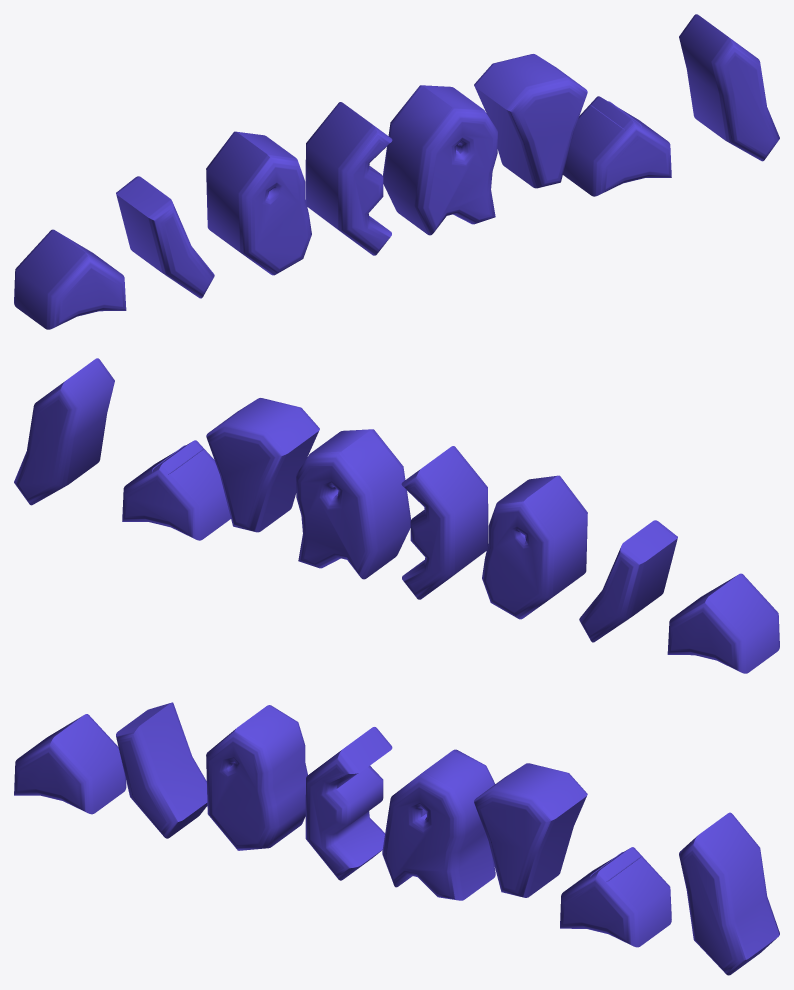
The model's file is albertaz-wordmark-clay-mesh.obj.
3 views of the same model, one above another, from view 1: azimuth 30°, elevation 25°; view 2: azimuth 150°, elevation 25°; view 3: azimuth 330°, elevation 25° (orthographic).
Parts seen in each view (by area): view 1: logo_6, logo_4, logo_7, logo_5, logo_8, logo_1, logo_2, logo_3; view 2: logo_6, logo_4, logo_7, logo_5, logo_8, logo_1, logo_2, logo_3; view 3: logo_6, logo_4, logo_8, logo_7, logo_5, logo_3, logo_2, logo_1.
Boxes of the visible parts, x1,y1,x2,y2 form: logo_6: (383,85,497,235); logo_4: (206,131,311,275); logo_7: (474,54,587,188); logo_5: (305,102,392,255); logo_8: (679,14,779,161); logo_1: (14,229,126,329); logo_2: (563,96,671,196); logo_3: (116,176,214,298); logo_6: (296,429,410,579); logo_4: (482,475,587,619); logo_7: (206,398,319,532); logo_5: (401,446,488,599); logo_8: (14,358,114,505); logo_1: (667,573,779,673); logo_2: (122,440,230,540); logo_3: (579,520,677,642); logo_6: (382,749,495,900); logo_4: (206,705,307,850); logo_8: (679,812,779,975); logo_7: (474,763,587,897); logo_5: (305,727,392,880); logo_3: (116,702,207,838); logo_2: (560,847,671,947); logo_1: (14,714,126,814).
Size of the model in its own units: 1.94 by 0.335 by 0.1973.
